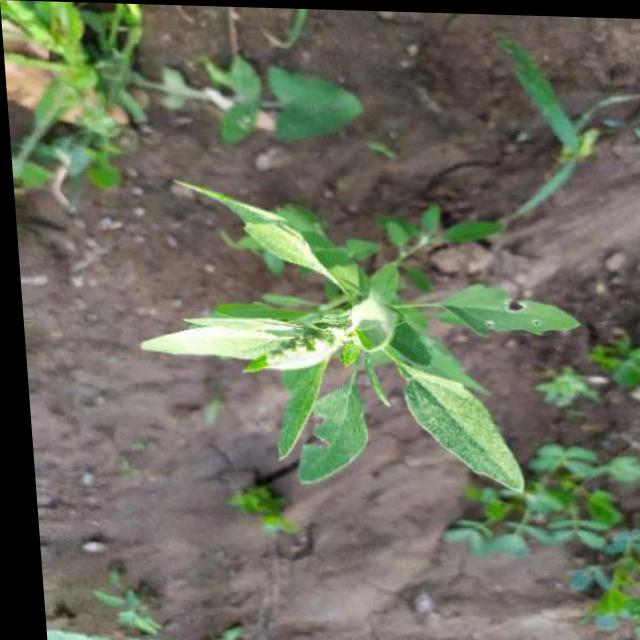weed: (119, 136, 585, 505)
